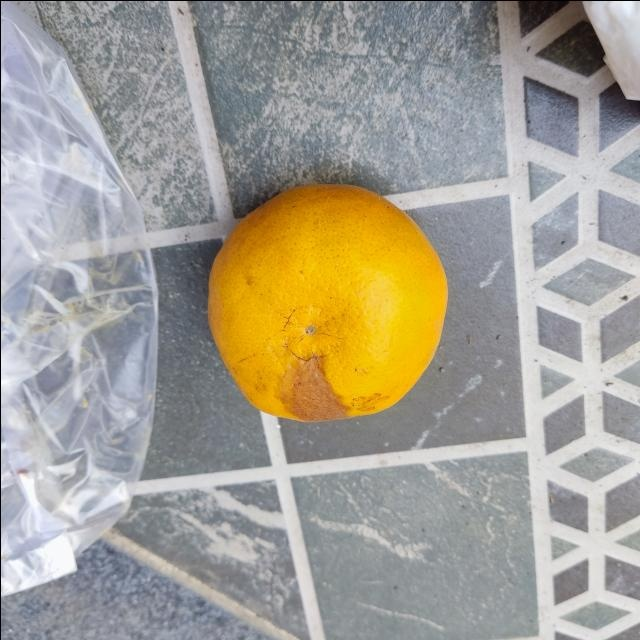agrume: (203, 175, 450, 425)
